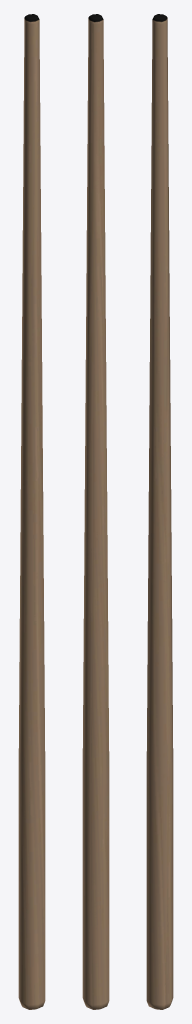
Rendered from pool cue.glb.
3 renders of one model, left to right at view 1: azimuth 30°, elevation 25°; view 2: azimuth 210°, elevation 25°; view 3: azimuth 330°, elevation 25°, orthographic.
Visible parts, largest first — view 1: pool_cue; view 2: pool_cue; view 3: pool_cue.
Part boxes in pixels (x1,y1,x2,y2): pool_cue: (18,14,45,1009); pool_cue: (82,14,109,1009); pool_cue: (146,14,173,1009).
Bounding box in the file's own units: 0.0351 × 1.51 × 0.0351.
Materials: 1 (1 with a texture image).
